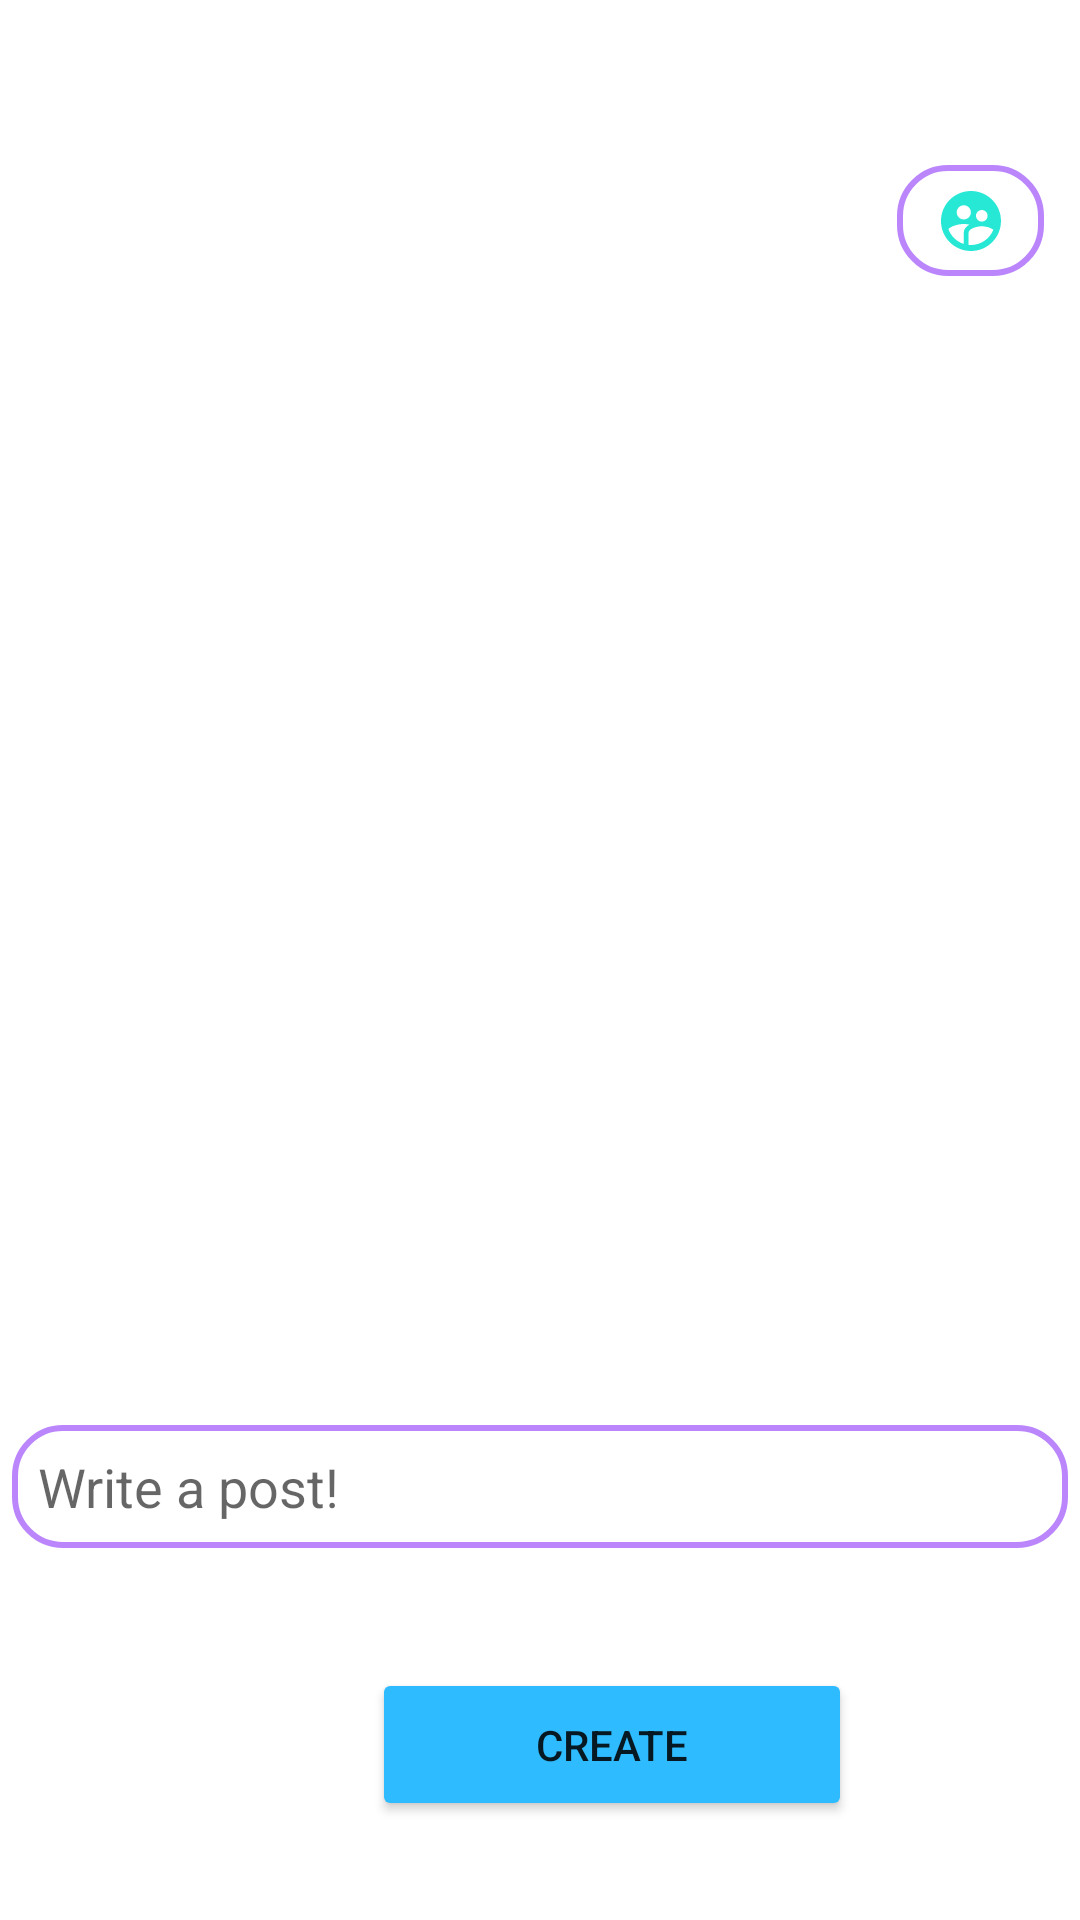

Where to tap for icons on this 1080 x 1920 app screen, as (x,y):
friend list: (970,220)
